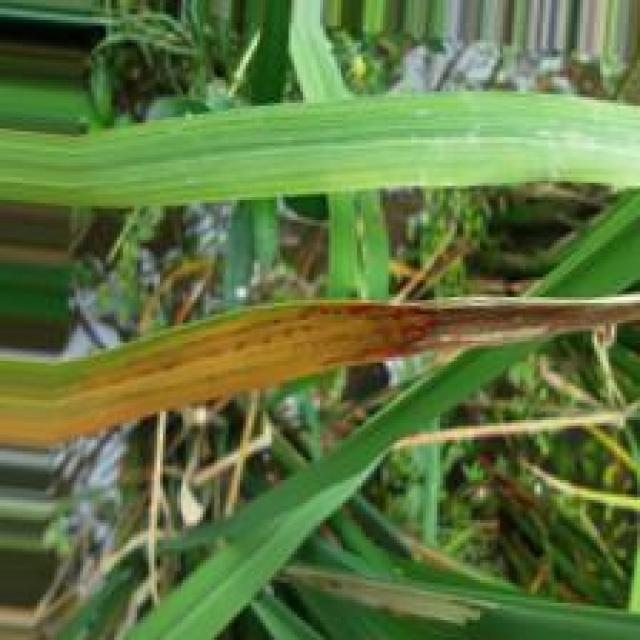Narrow_Brown_Leaf_Spot: (56, 292, 640, 440)
